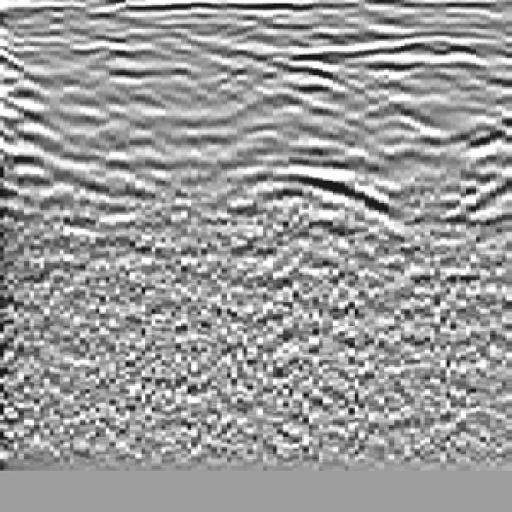metalic: (199, 35, 410, 270)
